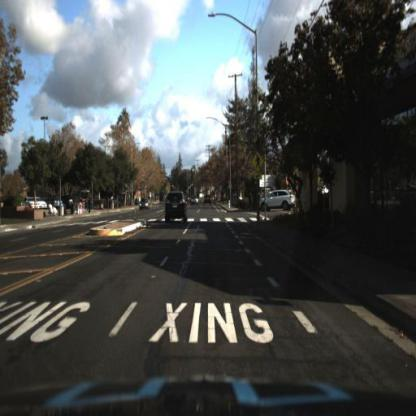car: (161, 180, 195, 227), (259, 188, 295, 214), (164, 191, 189, 225), (19, 191, 41, 212), (34, 195, 51, 211), (204, 192, 216, 208), (140, 199, 151, 215), (190, 194, 201, 207)
pedestrian: (254, 192, 262, 216), (86, 194, 93, 219)
